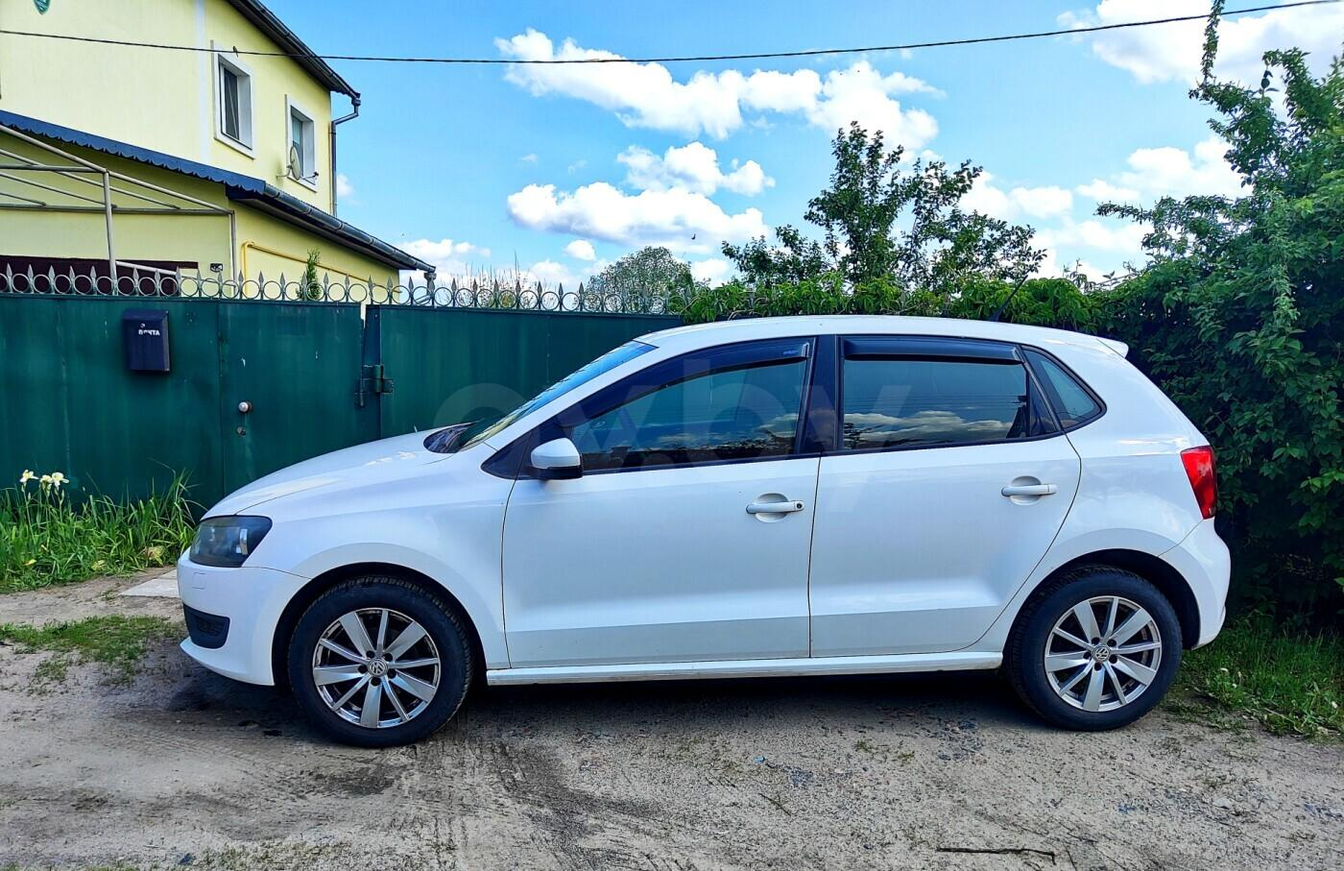Polo_2009-2015: (179, 290, 1249, 752)
